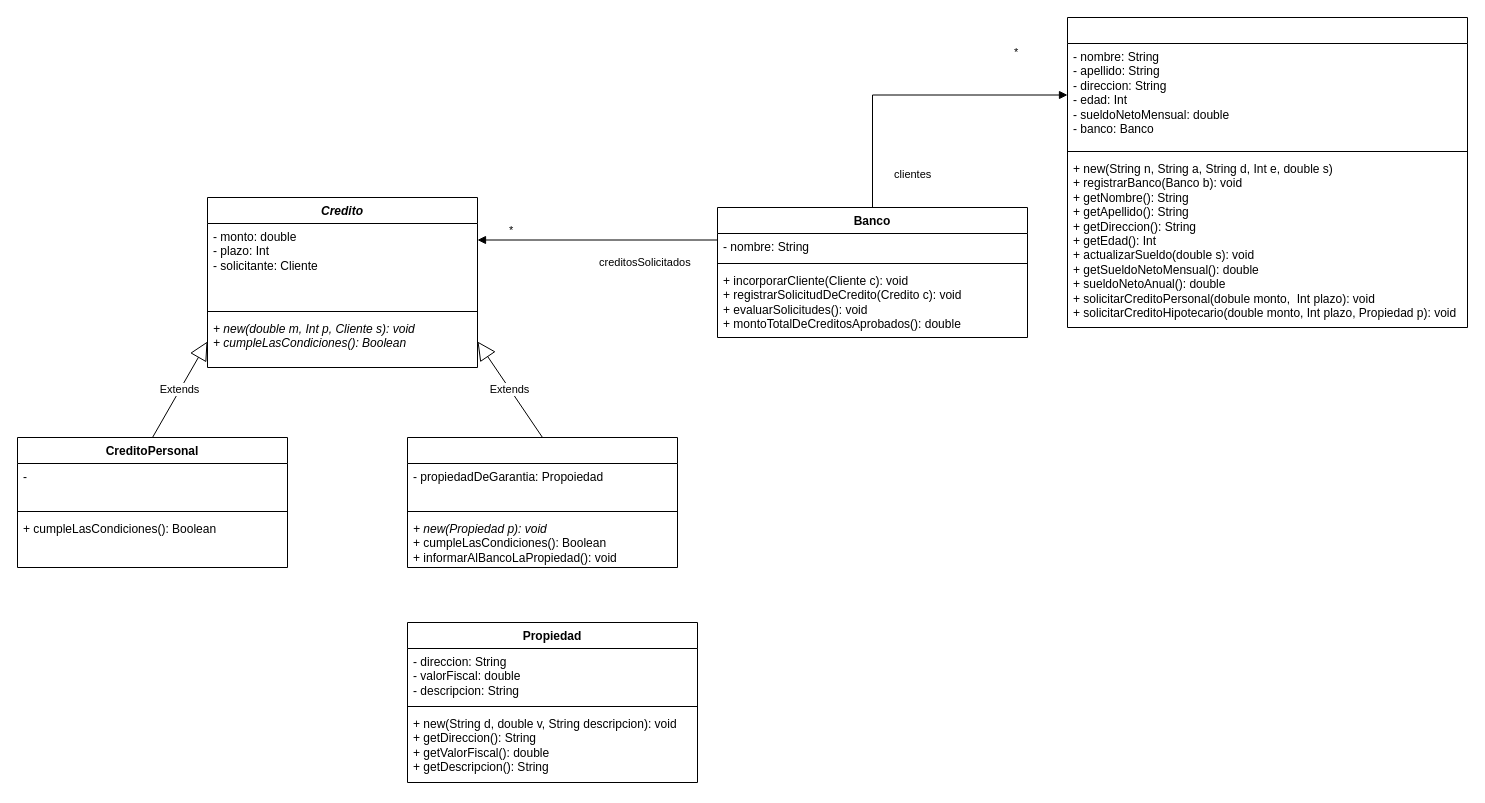
This 1485x803 diagram has some shape labels left out. The box of each missing label's shape, as (x1, y1, x2, y2) in pixels:
Cliente: (1066, 16, 1468, 328)
CreditoHipotecario: (406, 436, 678, 568)
